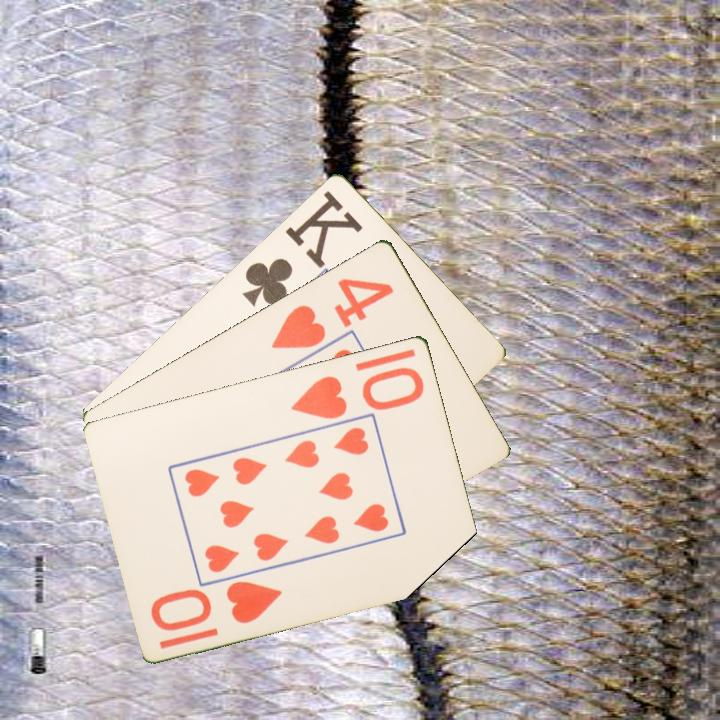10h: (287, 363, 428, 422), (147, 576, 286, 634)
4h: (267, 273, 397, 352)
Kc: (238, 186, 365, 309)
